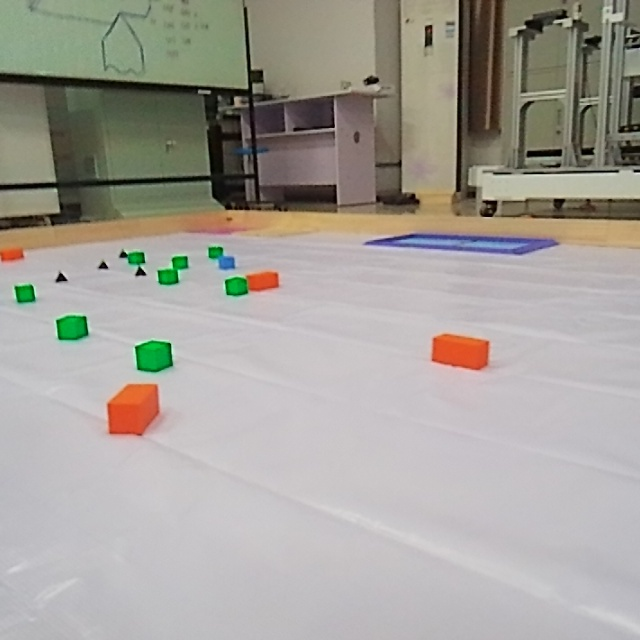black: (52, 268, 67, 285), (130, 264, 148, 278), (96, 258, 112, 272), (118, 248, 130, 259)
blue: (215, 256, 236, 271)
green: (132, 336, 177, 373), (52, 310, 93, 341), (221, 271, 259, 296), (11, 281, 40, 305), (170, 254, 192, 273), (156, 269, 179, 286), (128, 251, 146, 265), (205, 245, 221, 258)
orange: (103, 380, 164, 436), (428, 330, 493, 370), (242, 268, 282, 293), (0, 247, 27, 263)
zone2: (360, 229, 562, 260)
